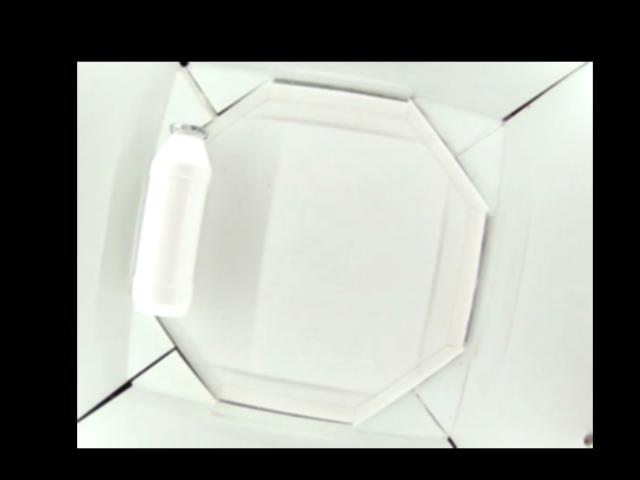Bottle: (128, 123, 209, 317)
